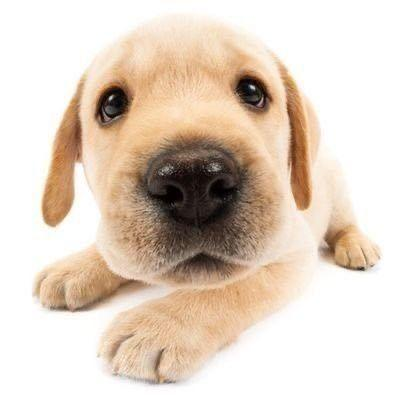puppy-dog: (32, 7, 381, 387)
